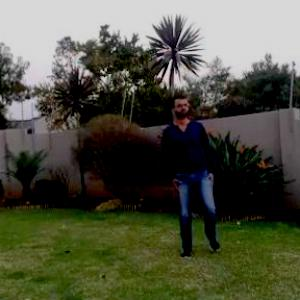follow: (161, 82, 223, 268)
